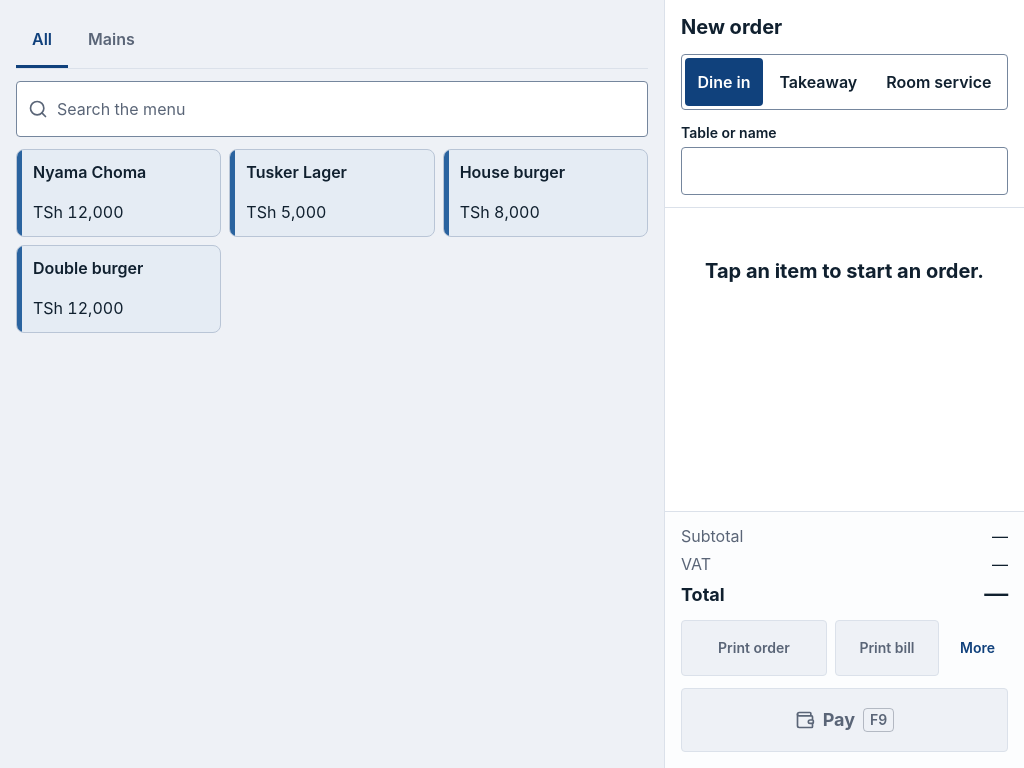
Test: NewOrder › a refused change says why in words
What coordinates should you click on to do the following:
click the button with test id "menu-Nyama Choma"
I would click on:
 (119, 193)
Its box is 16,149 -> 221,237.
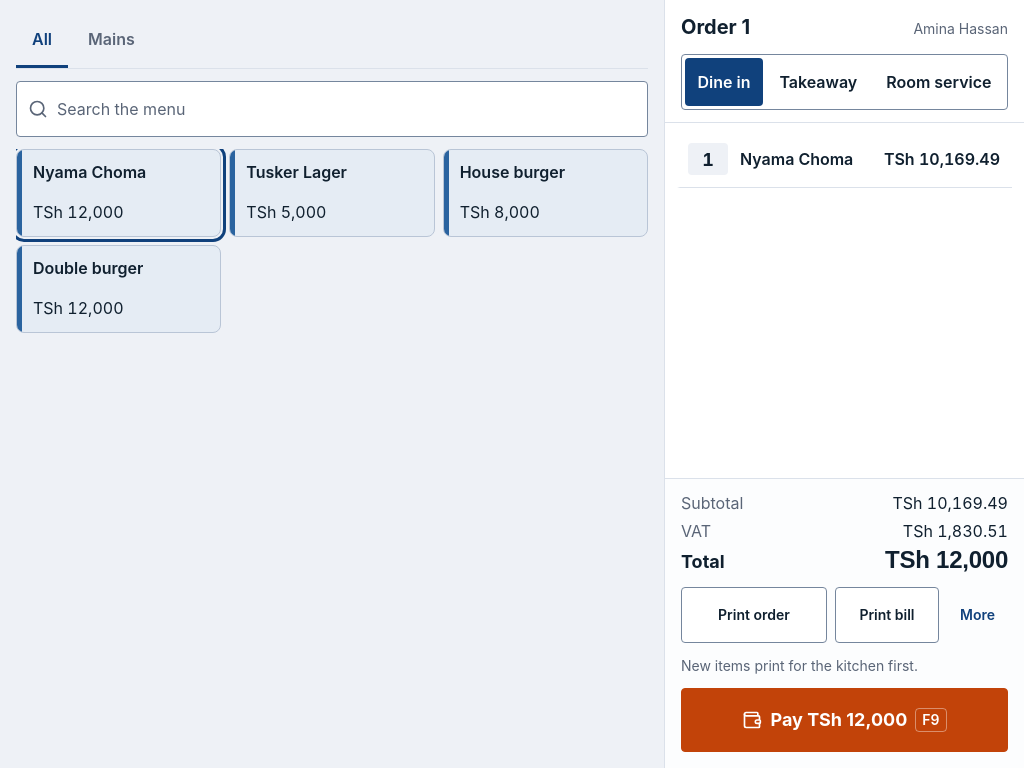
What coordinates should you click on to do the following:
click the button "1 Nyama Choma TSh 10,169.49"
I would click on:
 (844, 160)
Its box is 677,131 -> 1012,188.
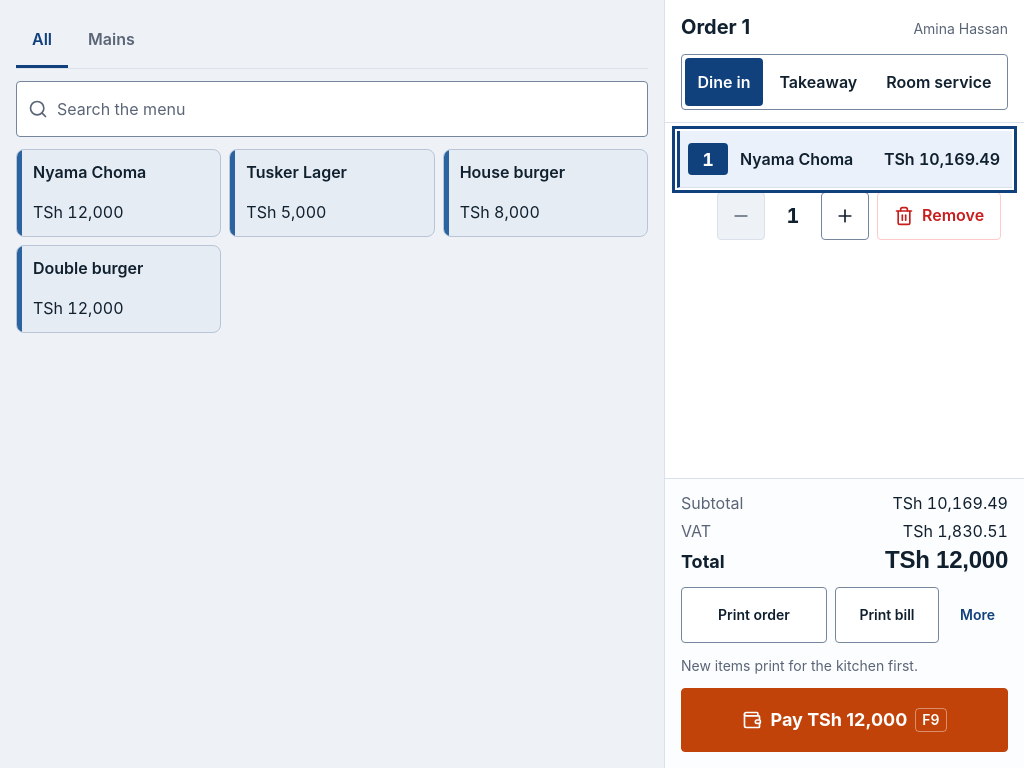
What coordinates should you click on to do the following:
click the button named "One more Nyama Choma"
I would click on:
 (845, 216)
Its box is 821,192 -> 869,240.
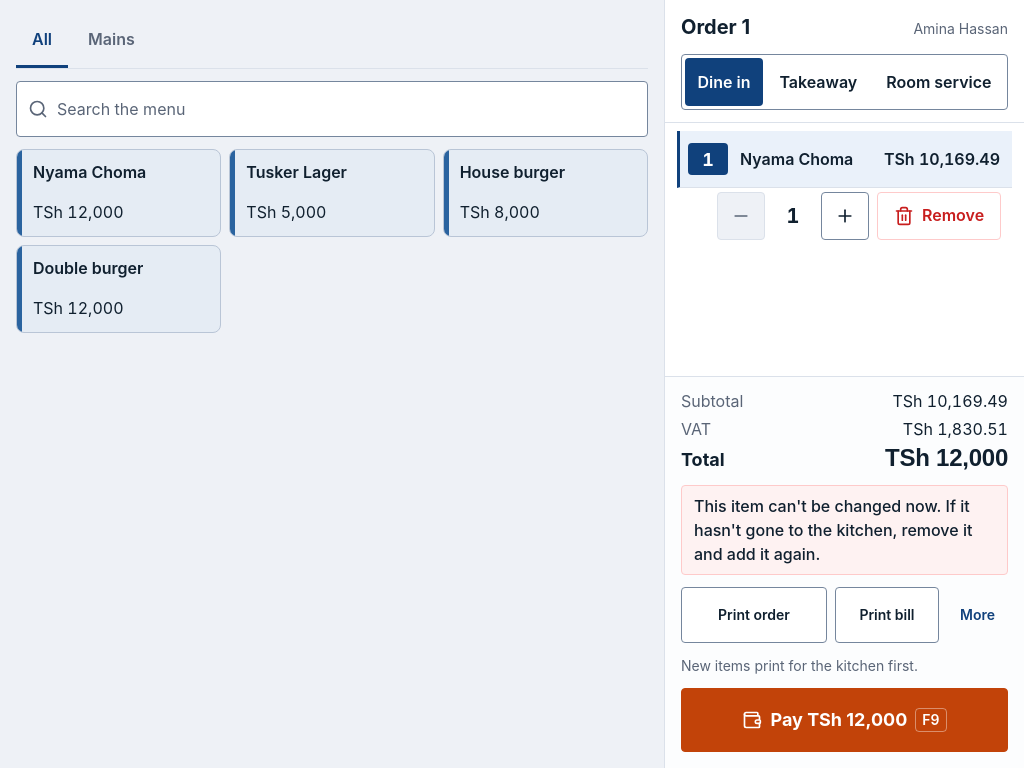
Now the text "This item can't be changed now. If it hasn't gone to the kitchen, remove it and add it again." is shown, box 694,496 -> 972,564
